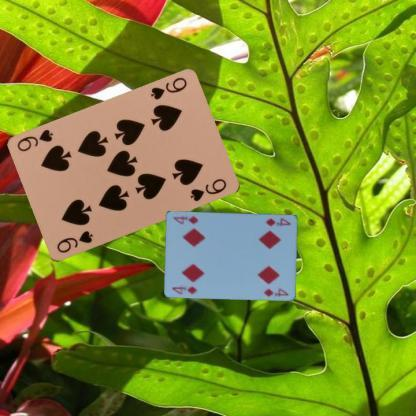4d: (170, 283, 199, 296), (263, 216, 292, 228)
9s: (54, 228, 94, 255), (148, 75, 188, 102)
